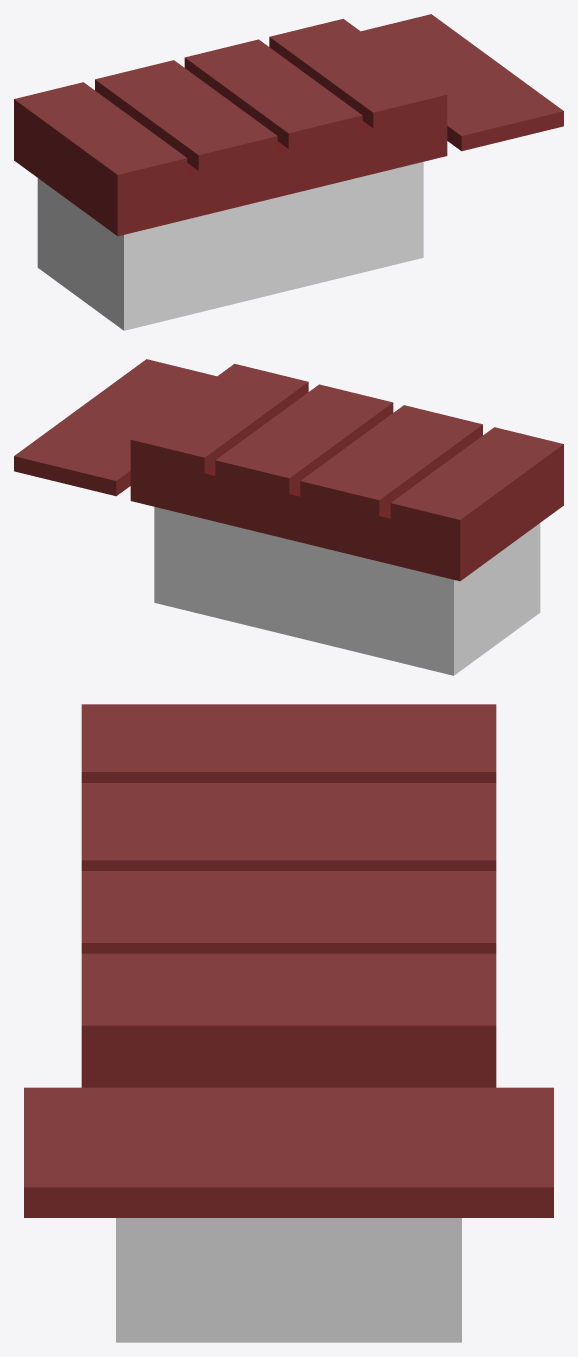
File: Shrimp.FBX
3 views of the same model, one above another, from view 1: azimuth 30°, elevation 25°; view 2: azimuth 150°, elevation 25°; view 3: azimuth 270°, elevation 25° (orthographic). The views are drawn at different scales.
Visible parts, largest first — view 1: Shrimp Sushi; view 2: Shrimp Sushi; view 3: Shrimp Sushi.
Part boxes in pixels (bbox=[...]): Shrimp Sushi: bbox=[14, 14, 563, 330]; Shrimp Sushi: bbox=[14, 359, 563, 675]; Shrimp Sushi: bbox=[24, 704, 553, 1342].
Size of the model in its own units: 60.64 by 22.25 by 32.24.
